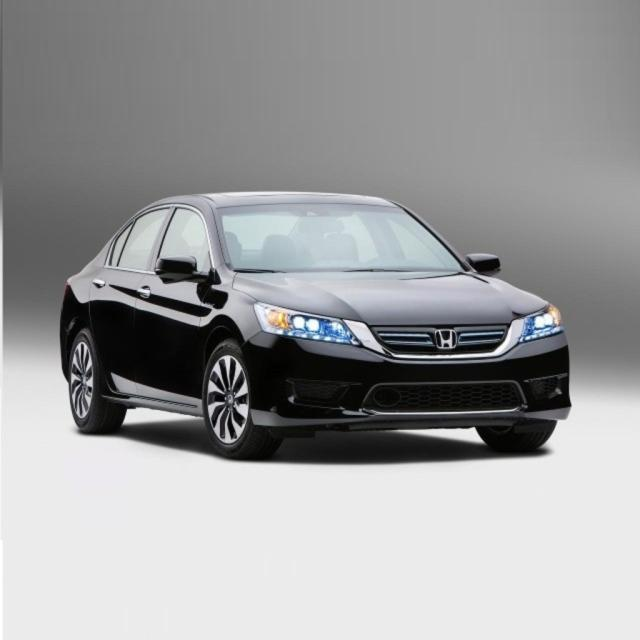car: (55, 190, 573, 450)
